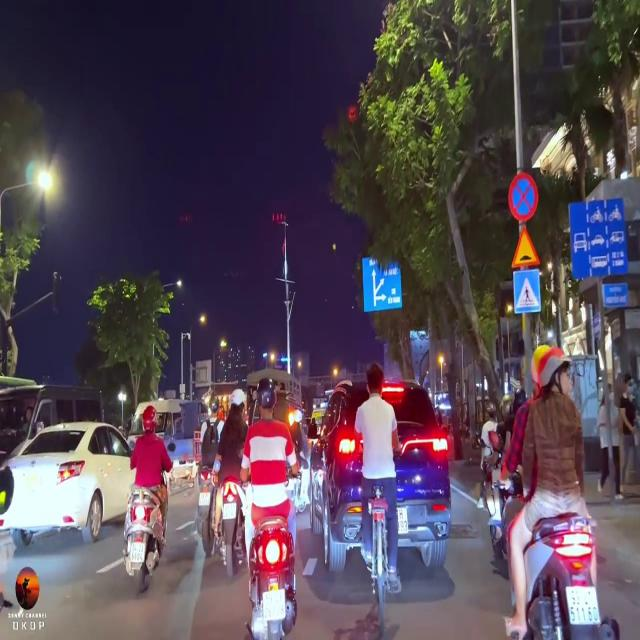bien_trang: (566, 584, 600, 626)
